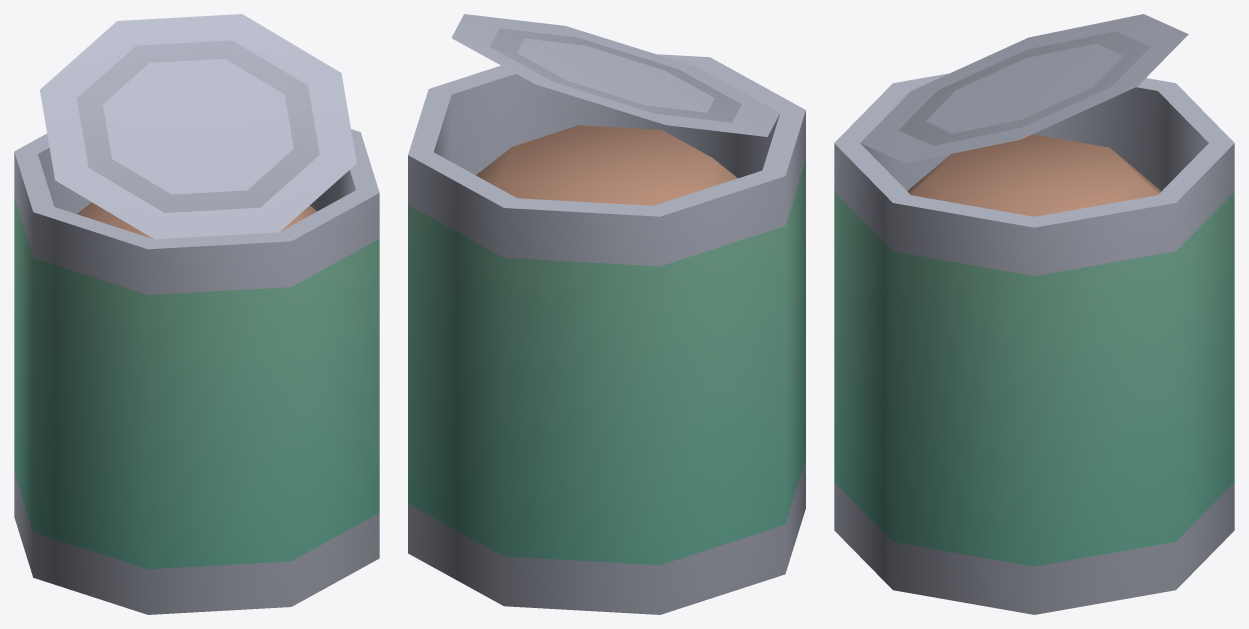
Rendered from can-open.glb.
3 renders of one model, left to right at view 1: azimuth 30°, elevation 25°; view 2: azimuth 150°, elevation 25°; view 3: azimuth 270°, elevation 25°, orthographic. The views are drawn at different scales.
Parts seen in each view (by area): view 1: can-open; view 2: can-open; view 3: can-open.
Part boxes in pixels (bbox=[...]): can-open: bbox=[14, 14, 379, 614]; can-open: bbox=[408, 14, 805, 614]; can-open: bbox=[834, 14, 1234, 614].
Size of the model in its own units: 0.3 by 0.4071 by 0.3.
